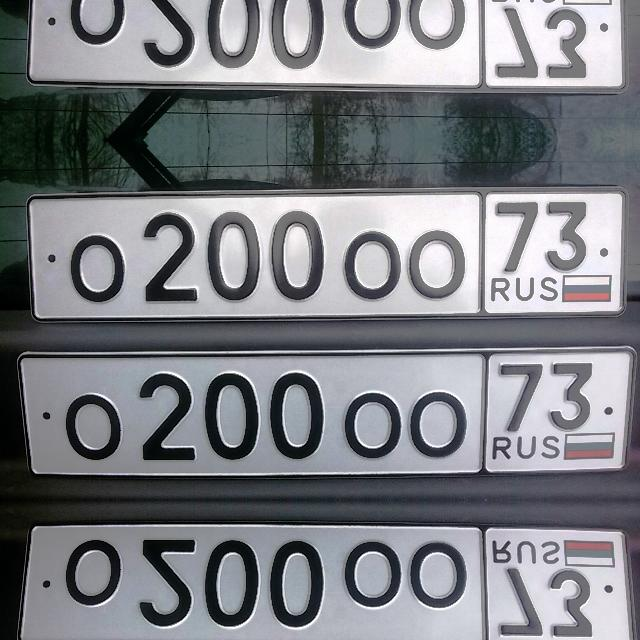citizen: (15, 168, 637, 326), (12, 342, 636, 482), (12, 517, 636, 640), (15, 0, 637, 112)
